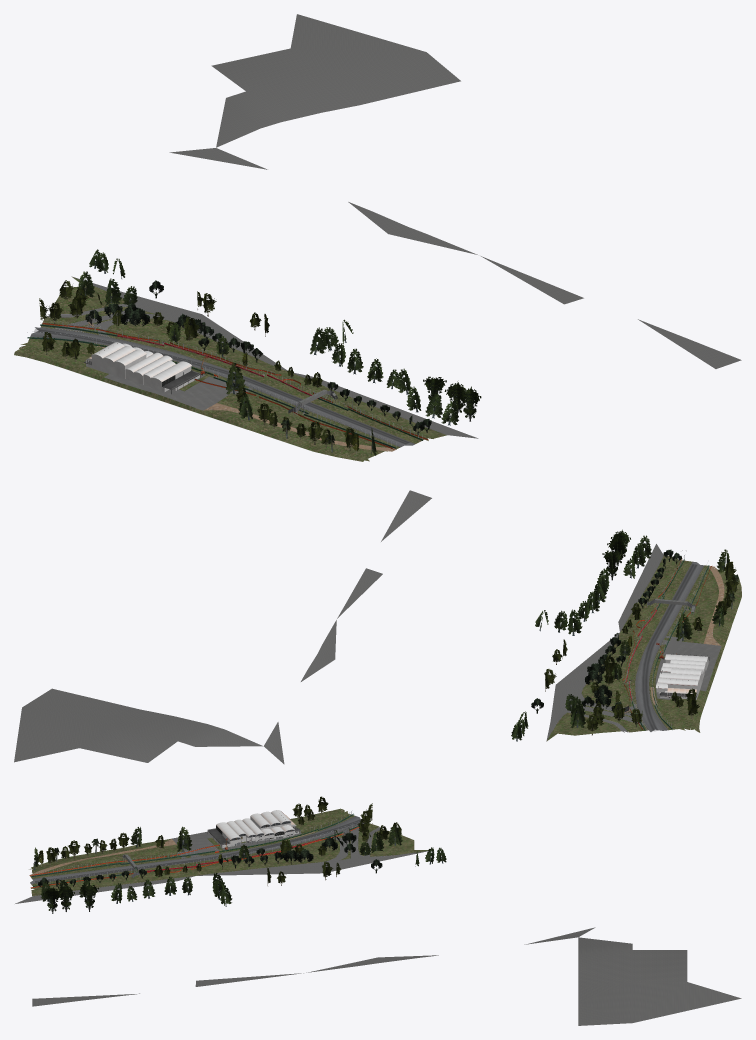
3 renders of one model, top to bottom at view 1: azimuth 30°, elevation 25°; view 2: azimuth 150°, elevation 25°; view 3: azimuth 270°, elevation 25°, orthographic. The views are drawn at different scales.
Visible parts, largest first — view 1: tile_t12; view 2: tile_t12; view 3: tile_t12.
Part boxes in pixels (bbox=[...]): tile_t12: bbox=[14, 14, 741, 461]; tile_t12: bbox=[14, 490, 741, 764]; tile_t12: bbox=[15, 796, 741, 1025].
Bounding box in the file's own units: 478 × 30.74 × 640.
Materials: 26 (26 with a texture image).
